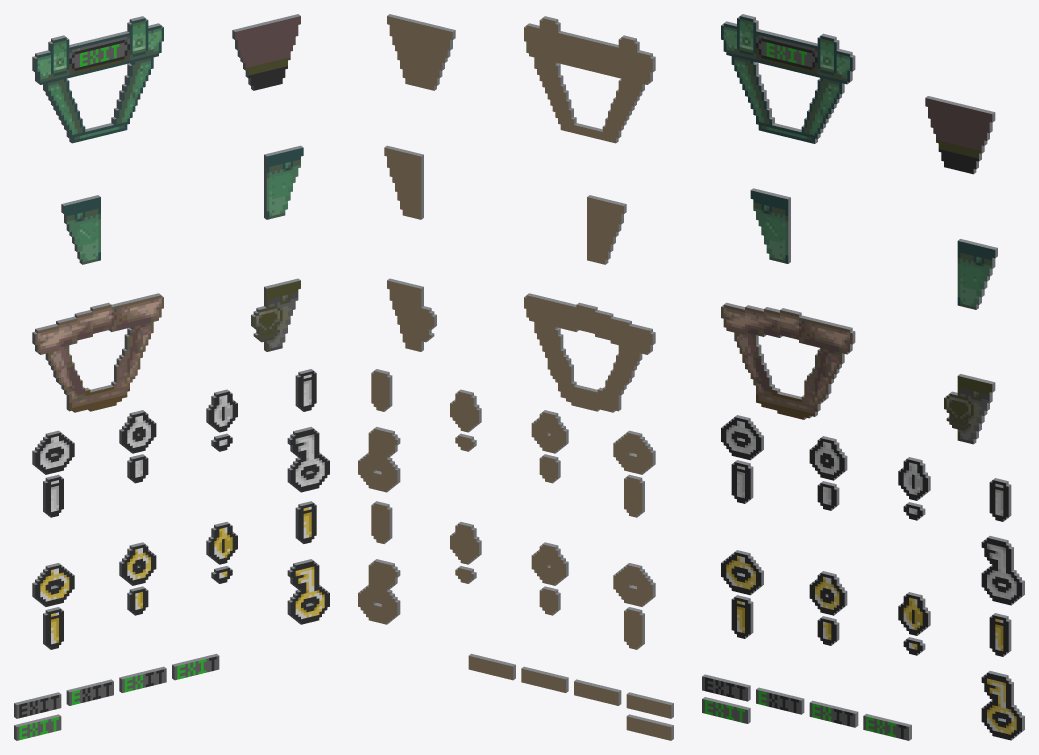
Rendered from door_01x_ghostexit_green.glb.
3 renders of one model, left to right at view 1: azimuth 30°, elevation 25°; view 2: azimuth 150°, elevation 25°; view 3: azimuth 330°, elevation 25°, orthographic. The views are drawn at different scales.
Size of the model in its own units: 119 by 251 by 1.8.
